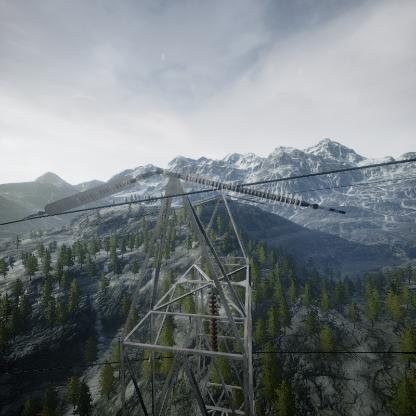insulator: (165, 165, 321, 211), (27, 170, 155, 219), (206, 288, 221, 355)
